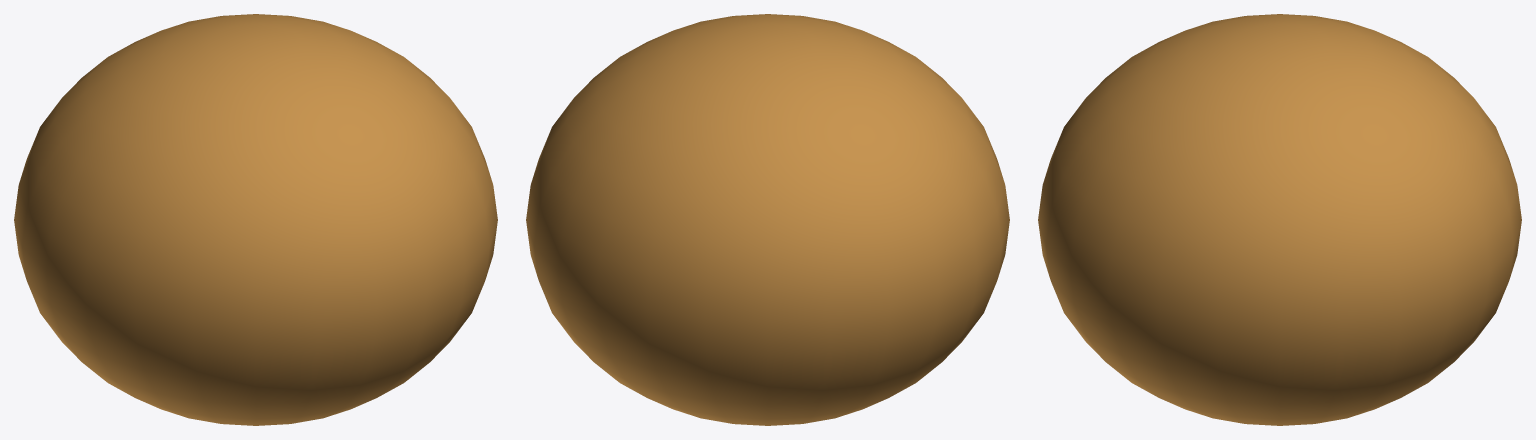
The model's file is SM_EG_BakeryRoll_e0b5f2f06a.fbx.
3 renders of one model, left to right at view 1: azimuth 30°, elevation 25°; view 2: azimuth 150°, elevation 25°; view 3: azimuth 270°, elevation 25°, orthographic.
Visible parts, largest first — view 1: SM_EG_BakeryRoll_e0b5f2f06a; view 2: SM_EG_BakeryRoll_e0b5f2f06a; view 3: SM_EG_BakeryRoll_e0b5f2f06a.
Boxes of the visible parts, x1,y1,x2,y2 form: SM_EG_BakeryRoll_e0b5f2f06a: (14,14,497,425); SM_EG_BakeryRoll_e0b5f2f06a: (526,14,1009,425); SM_EG_BakeryRoll_e0b5f2f06a: (1038,14,1521,425).
Size of what is drawn, in the model's own units: 22 by 22 by 18.
